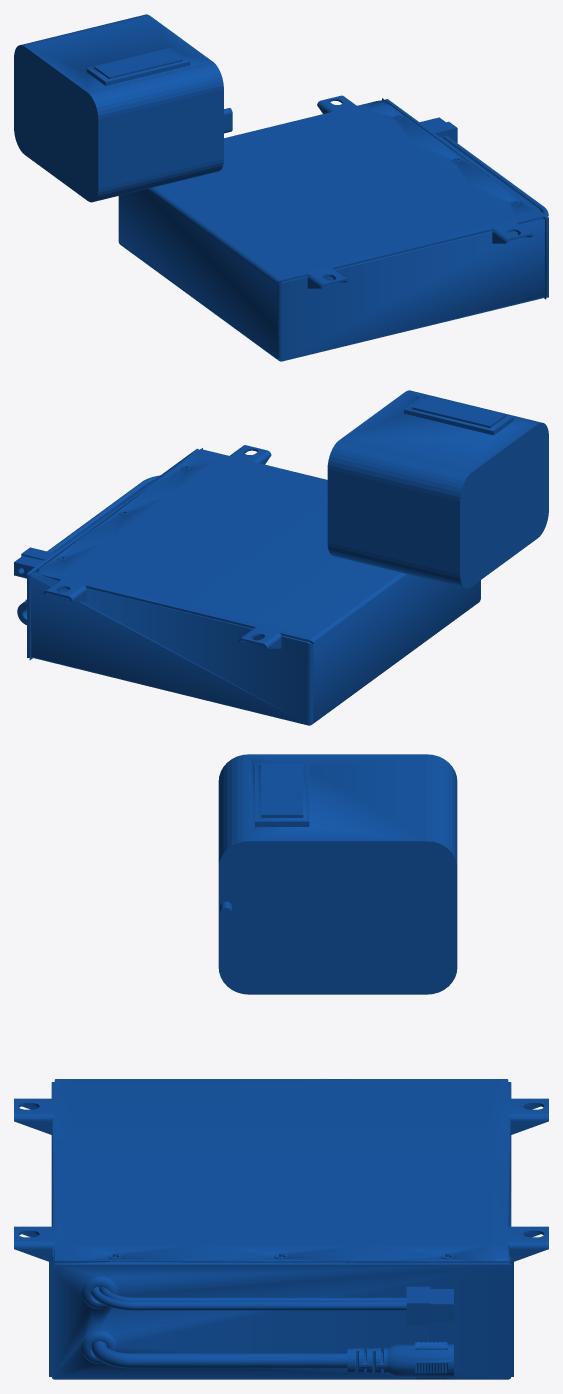
Rendered from chassis_battery.dae.
3 renders of one model, top to bottom at view 1: azimuth 30°, elevation 25°; view 2: azimuth 150°, elevation 25°; view 3: azimuth 270°, elevation 25°, orthographic. The views are drawn at different scales.
Parts seen in each view (by area): view 1: node; view 2: node; view 3: node.
Boxes of the visible parts, x1,y1,x2,y2 form: node: (14,14,548,361); node: (14,390,548,725); node: (14,754,548,1379).
Size of the model in its own units: 0.2303 by 0.177 by 0.1324.
